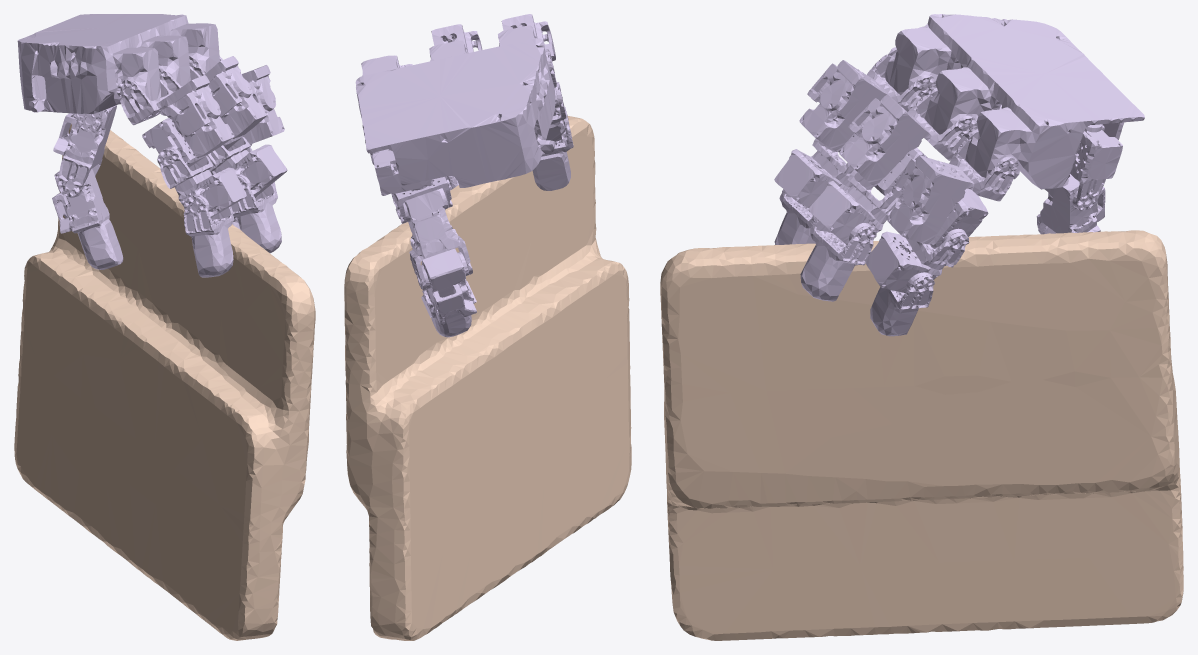
Rendered from 2a2b4ecc6fbaa7-final.glb.
The picture shows the model from 3 angles, left to right: view 1: azimuth 30°, elevation 25°; view 2: azimuth 150°, elevation 25°; view 3: azimuth 270°, elevation 25°; orthographic projection. The views are drawn at different scales.
Parts seen in each view (by area): view 1: world, LEAP_hand; view 2: world, LEAP_hand; view 3: world, LEAP_hand.
Boxes of the visible parts, <box> form: world: <box>14,123,315,640</box>; LEAP_hand: <box>17,14,287,277</box>; world: <box>344,116,631,640</box>; LEAP_hand: <box>355,14,573,337</box>; world: <box>660,230,1183,640</box>; LEAP_hand: <box>774,14,1144,336</box>.
Size of the model in its own units: 0.1635 by 0.3891 by 0.3106.
